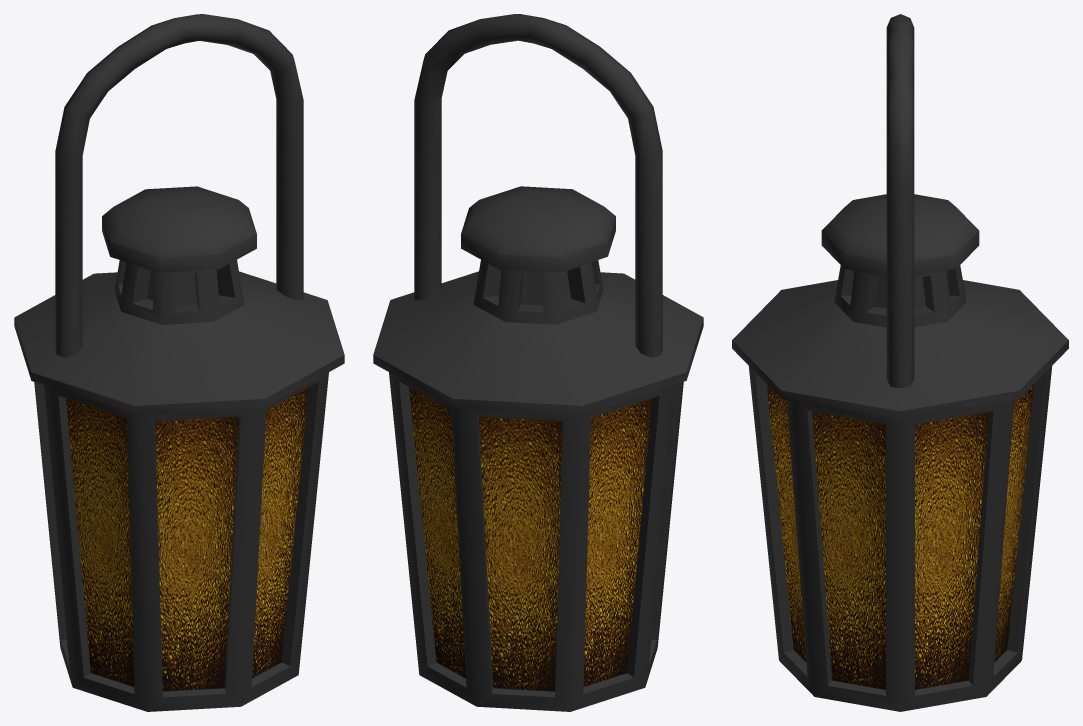
The model's file is lantern.fbx.
The picture shows the model from 3 angles, left to right: view 1: azimuth 30°, elevation 25°; view 2: azimuth 150°, elevation 25°; view 3: azimuth 270°, elevation 25°; orthographic projection.
Parts seen in each view (by area): view 1: Mesh; view 2: Mesh; view 3: Mesh.
Boxes of the visible parts, x1,y1,x2,y2 form: Mesh: [14, 14, 344, 711]; Mesh: [373, 14, 703, 711]; Mesh: [732, 14, 1068, 711].
Bounding box in the file's own units: 25.34 × 52.61 × 25.34.
